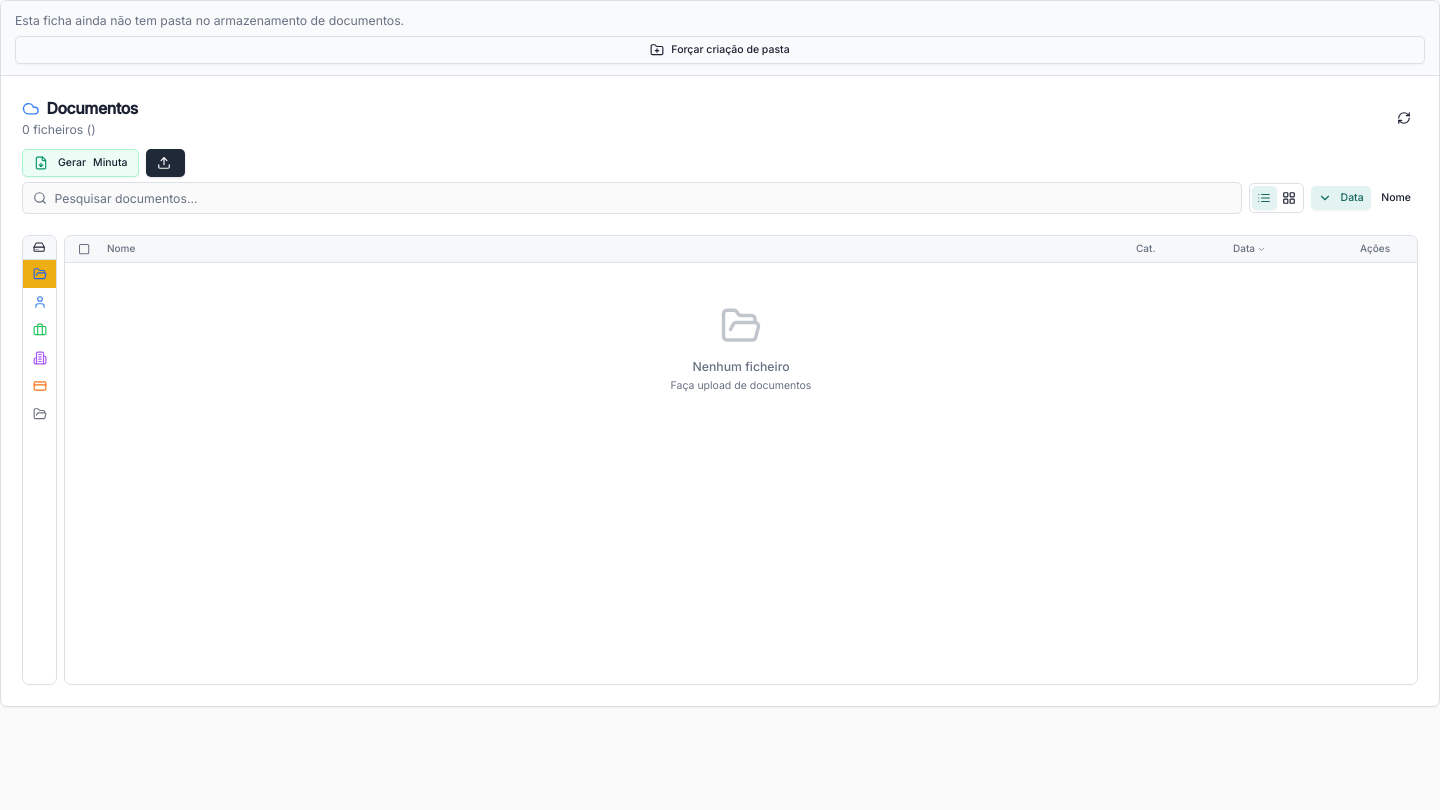
S3FileManager — «Forçar criação de pasta» (Lote 6) › o S3 em baixo (503) diz-se ao lado do botão, que continua disponível
Click the button with test id "forcar-pasta-s3-btn" at (720, 50), box top-left (15, 36), bottom-right (1425, 64)
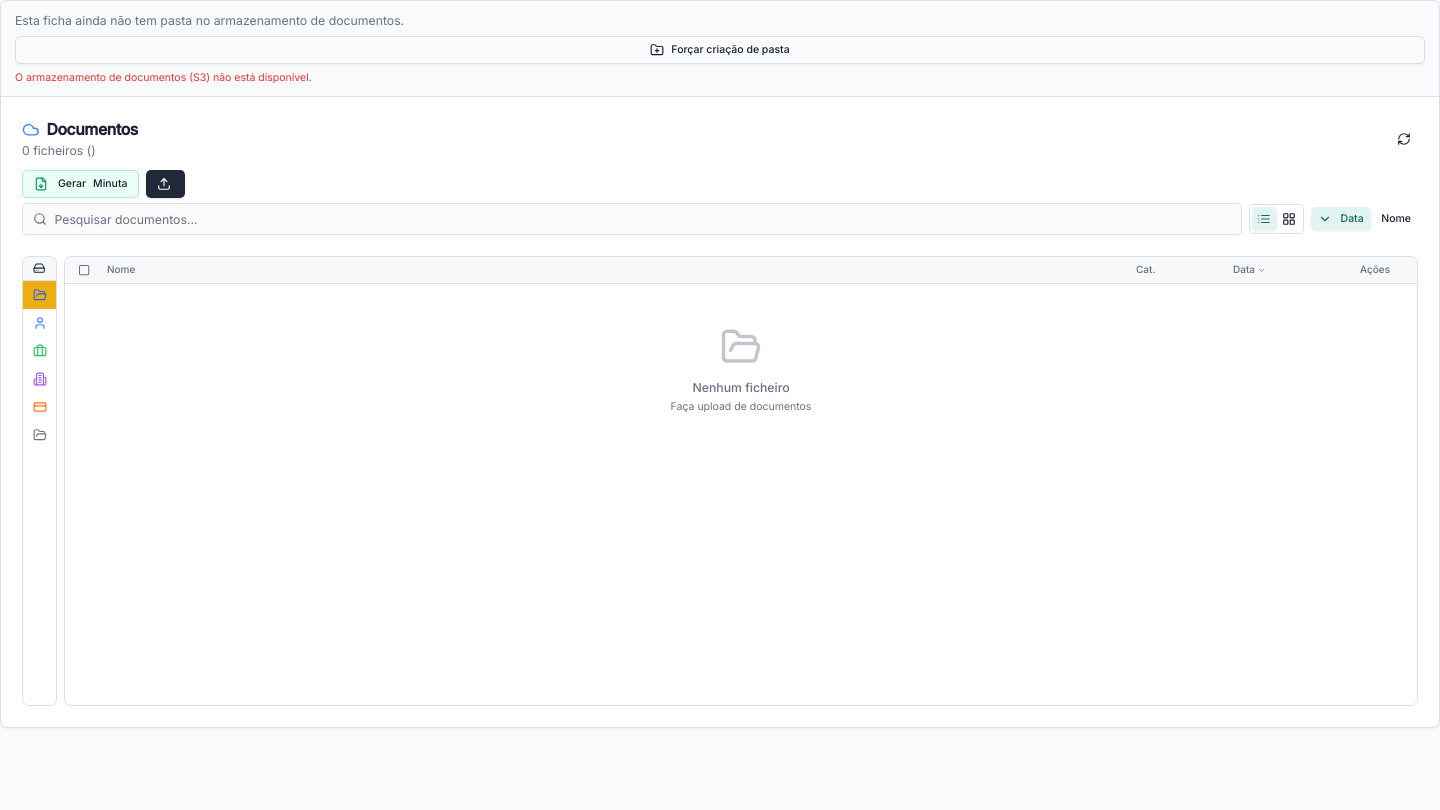
expect the message with test id "forcar-pasta-s3-erro" shows "não está disponível": met, box top-left (15, 71), bottom-right (312, 84)
